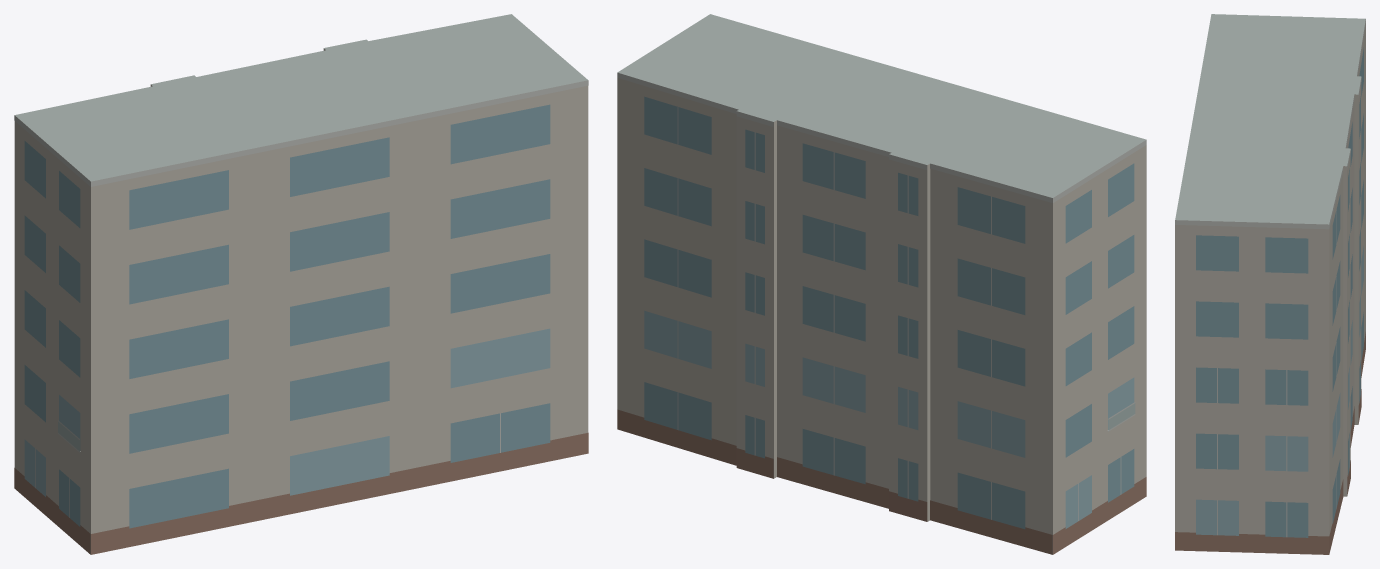
File: survey-upis-32689620.glb
The picture shows the model from 3 angles, left to right: view 1: azimuth 30°, elevation 25°; view 2: azimuth 150°, elevation 25°; view 3: azimuth 270°, elevation 25°; orthographic projection. The views are drawn at different scales.
Parts seen in each view (by area): view 1: survey-upis-32689620.tmp; view 2: survey-upis-32689620.tmp; view 3: survey-upis-32689620.tmp.
Part boxes in pixels (x1,y1,x2,y2): survey-upis-32689620.tmp: (14, 14, 588, 554); survey-upis-32689620.tmp: (617, 14, 1146, 554); survey-upis-32689620.tmp: (1175, 14, 1365, 554).
Size of the model in its own units: 23.1 by 16.9 by 8.85.
